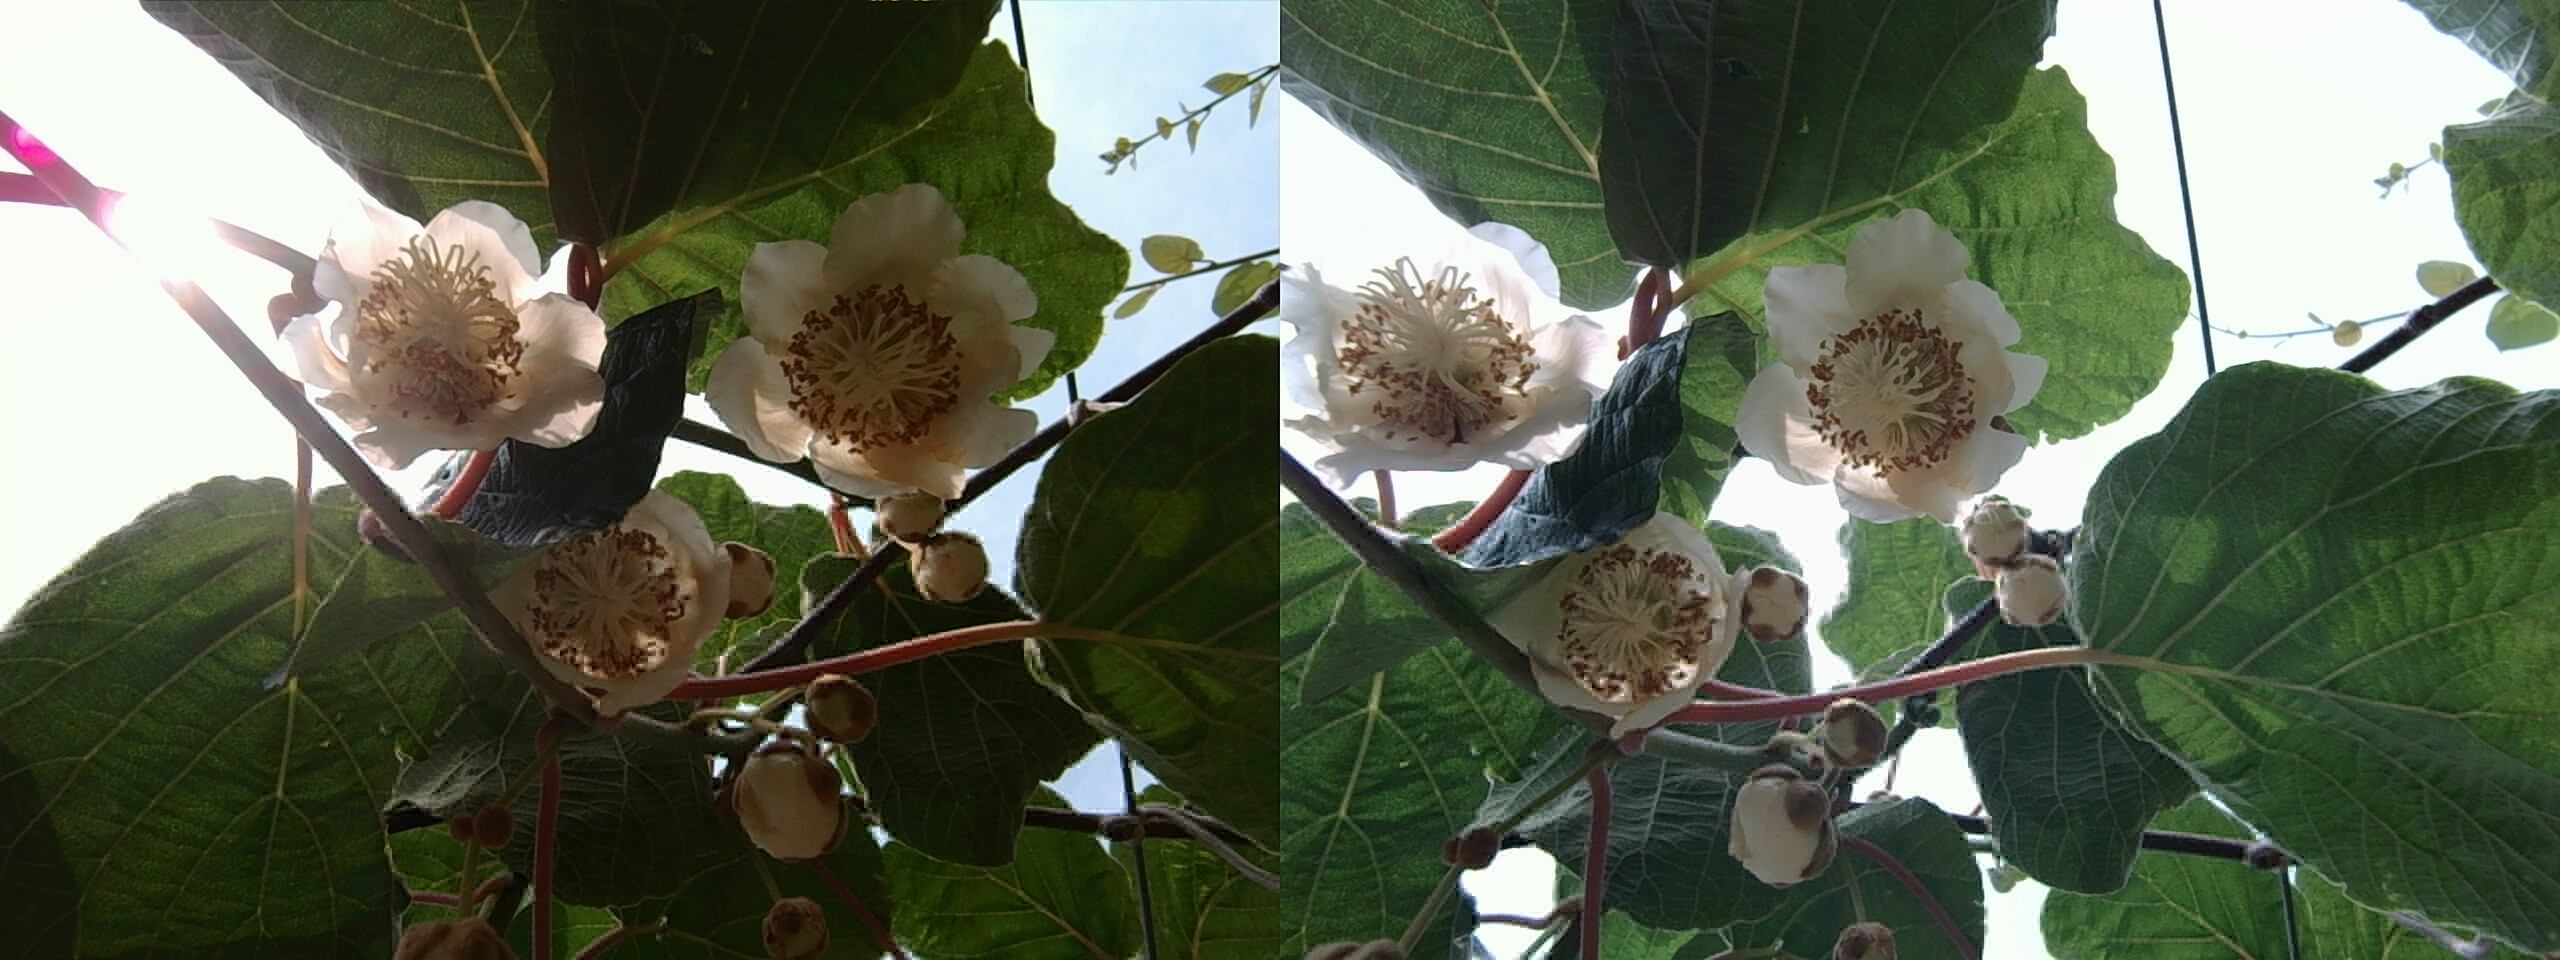flower: (713, 193, 1037, 495), (1747, 214, 2036, 519), (291, 193, 596, 454), (1291, 224, 1579, 465), (473, 490, 758, 704), (1497, 508, 1762, 718)
